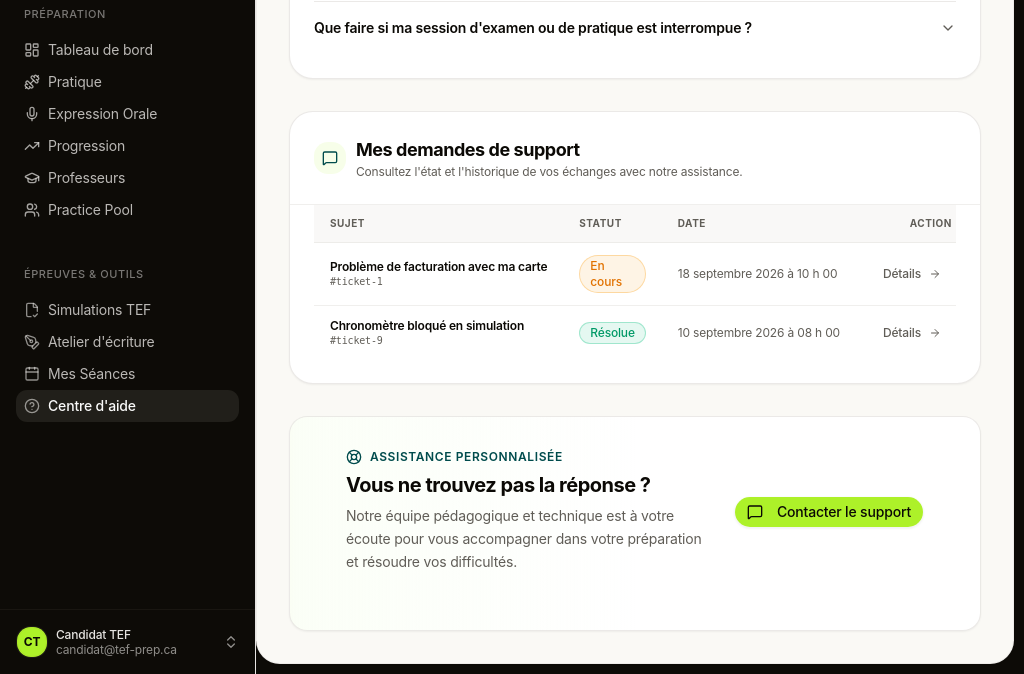
Test: Page 22 — Student Help & Support (/help) › opens contact support modal, validates fields, and submits support ticket
(page scrolled)
// Click contact button
Click the button "Contacter le support".
click(829, 512)  # box [734,496,924,528]
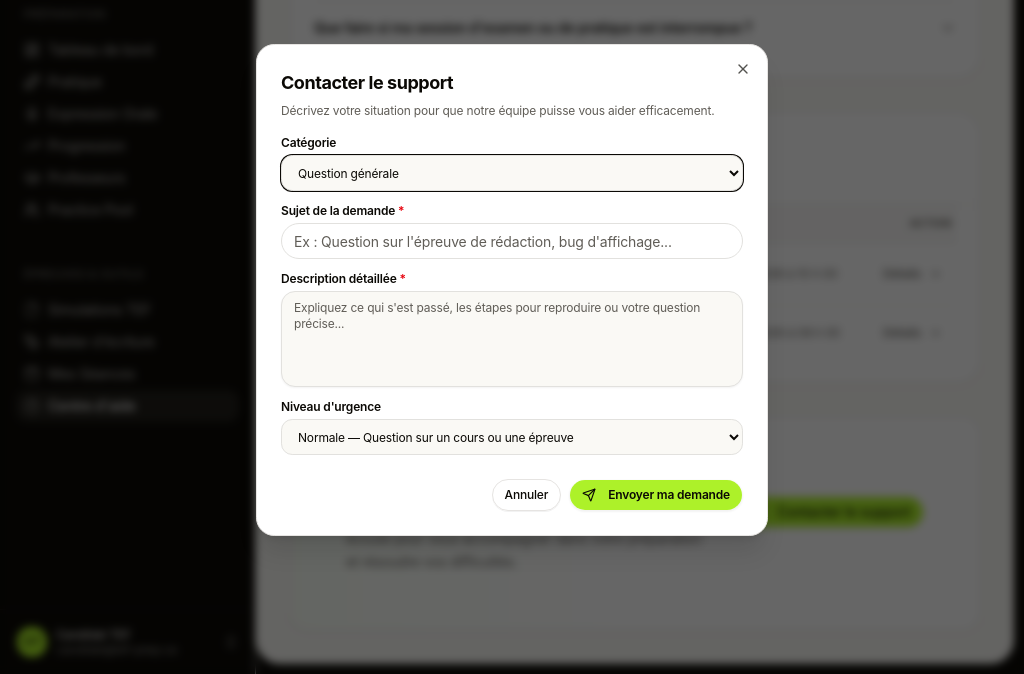
expect the heading "Contacter le support" is shown: met, box [281,72,453,93]
// Try submitting without filling fields
Click the button "Envoyer ma demande".
click(656, 495)  # box [569,479,743,511]
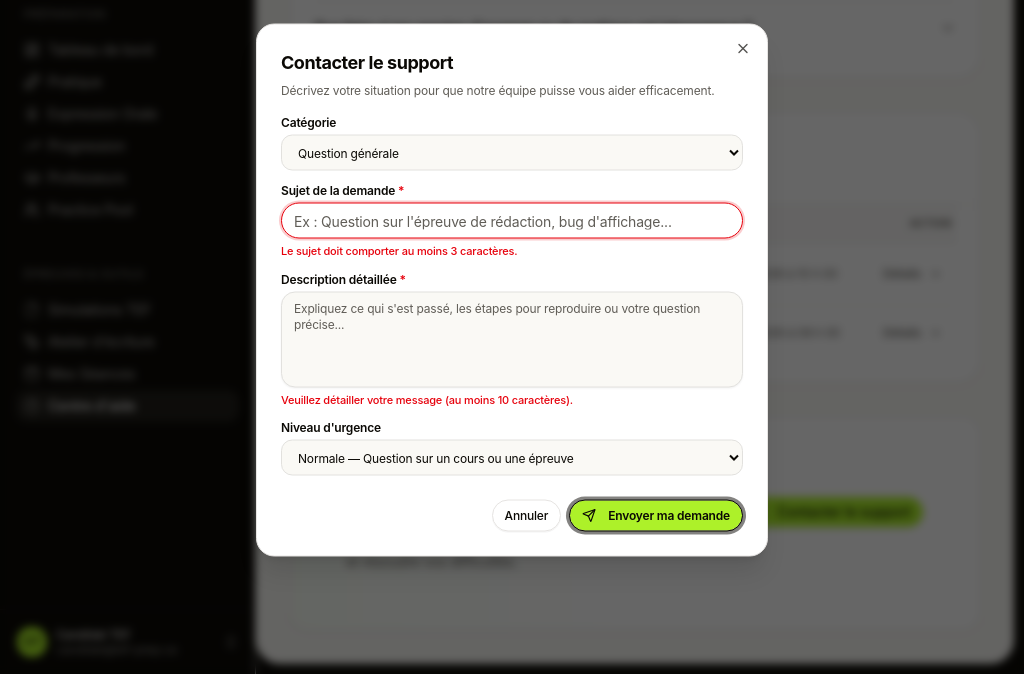
expect the text "Le sujet doit comporter au moins 3 caractères." is shown: met, box [281,244,518,258]
expect the text "Veuillez détailler votre message (au moins 10 caractères)." is shown: met, box [281,392,573,406]
// Fill fields
Type "Demande de remboursement crédit" into the field with placeholder "Ex : Question sur l'épreuve".
click(512, 220); type("Demande de remboursement crédit")  # box [281,202,743,238]
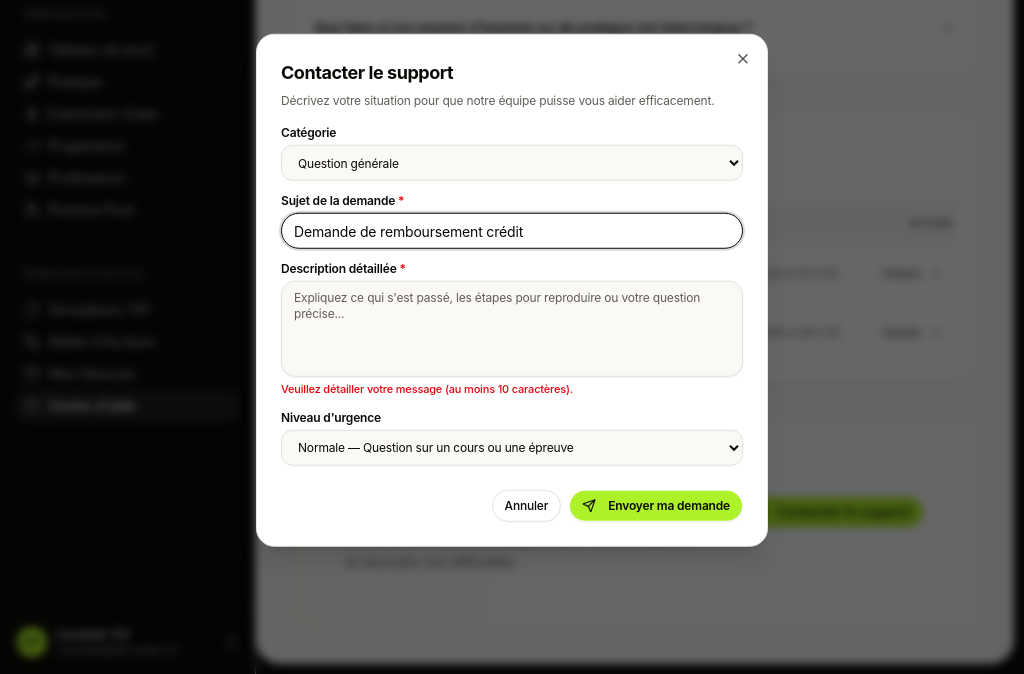
Type "J'ai un cours qui a été annulé par le professeur." into the text box with placeholder "Expliquez ce qui s'est passé".
click(512, 329); type("J'ai un cours qui a été annulé par le professeur.")  # box [281,281,743,377]
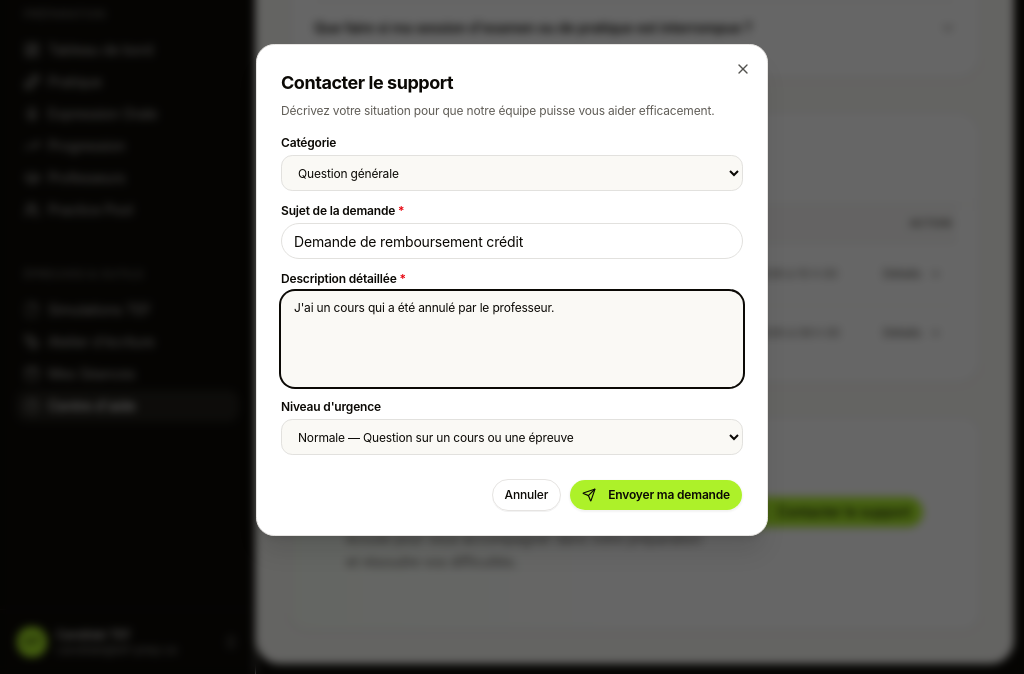
// Submit form
Click the button "Envoyer ma demande".
click(656, 495)  # box [569,479,743,511]
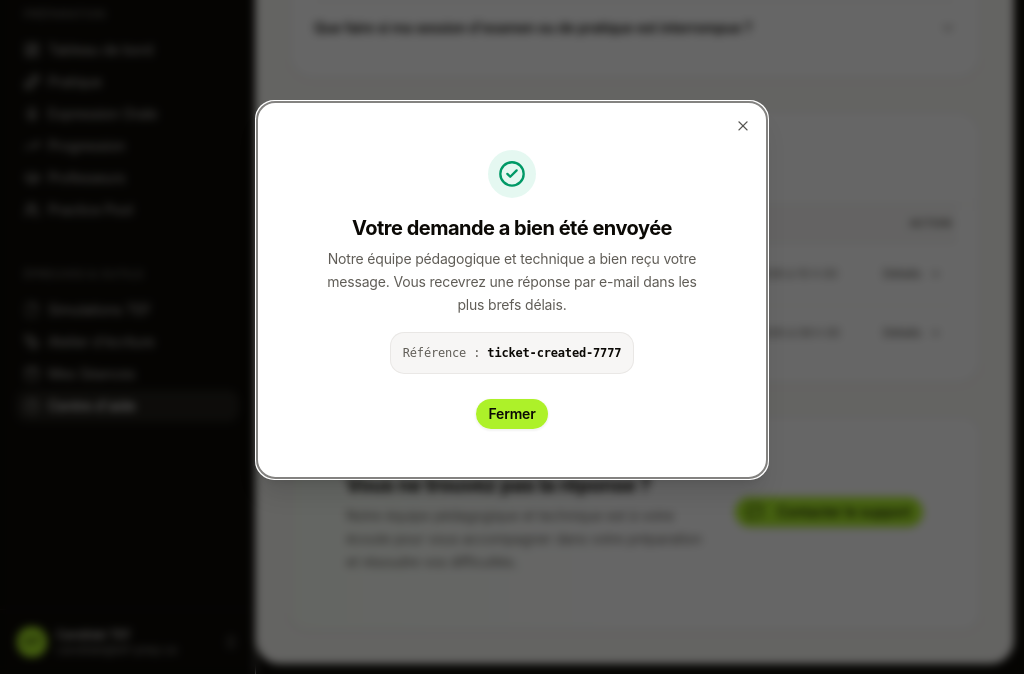
expect the heading "Votre demande a bien été envoyée" is shown: met, box [352,216,672,240]
expect the text "ticket-created-7777" is shown: met, box [487,346,621,360]
